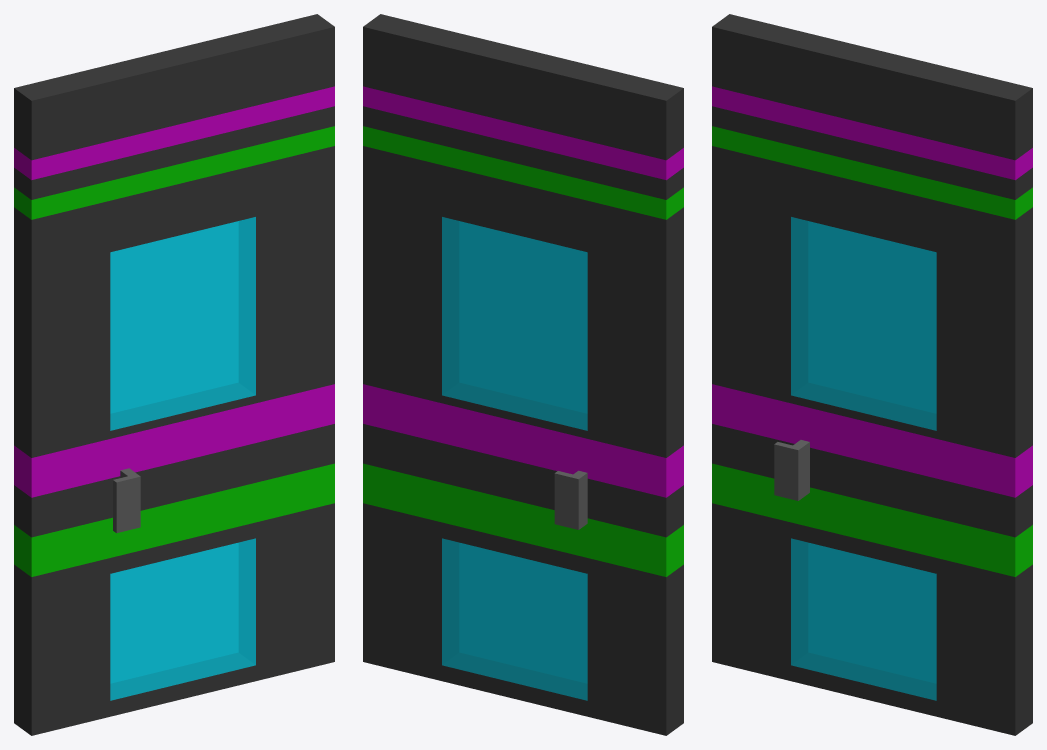
File: Doorway.fbx
3 renders of one model, left to right at view 1: azimuth 30°, elevation 25°; view 2: azimuth 150°, elevation 25°; view 3: azimuth 330°, elevation 25°, orthographic.
Visible parts, largest first — view 1: Doorway, Door; view 2: Doorway, Door; view 3: Doorway, Door.
Boxes of the visible parts, x1,y1,x2,y2 form: Doorway: (14,14,334,735); Door: (92,200,274,720); Doorway: (363,14,683,735); Door: (423,200,605,720); Doorway: (712,14,1032,735); Door: (772,200,954,720).
Bounding box in the file's own units: 2000 × 4000 × 430.
